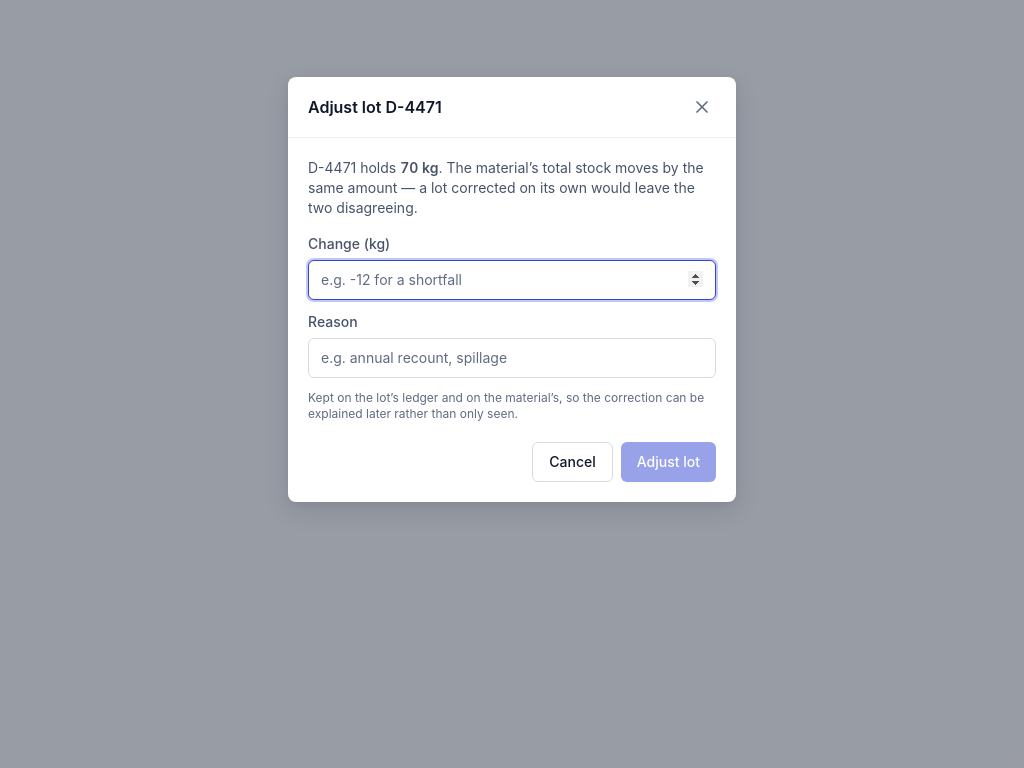
Test: adjusting a lot › will not submit without a reason
Type "-12" into the number field named "Adjustment in kg" at (512, 280), box [308,260,716,300]
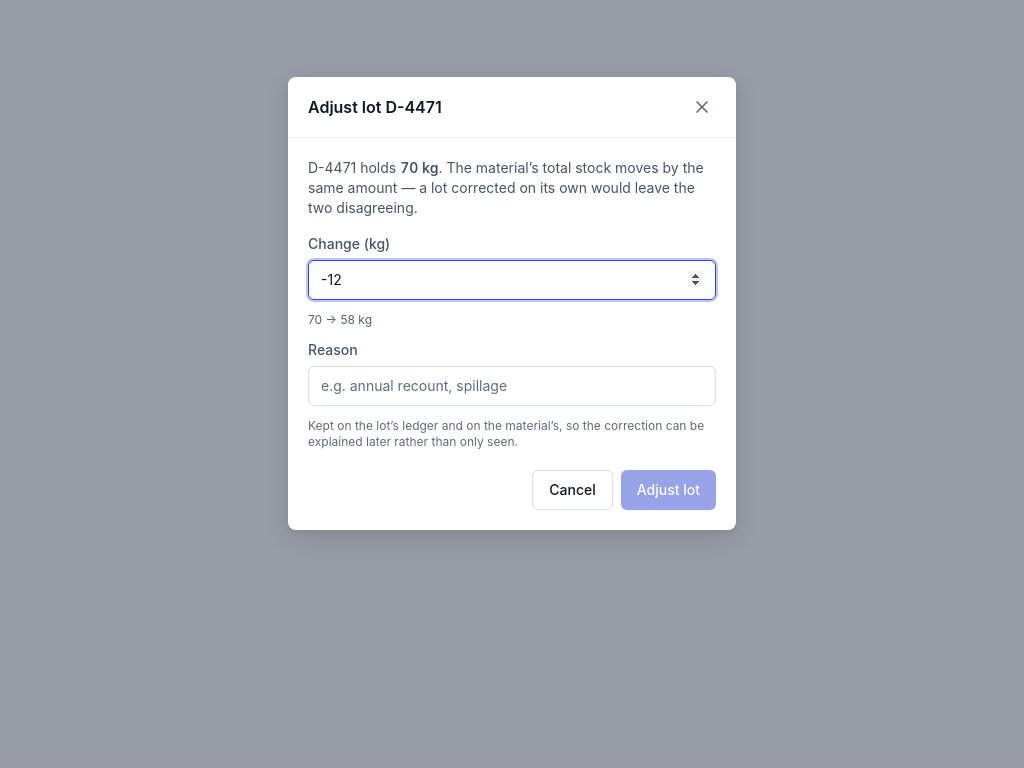
Expected: the button "Adjust lot" is disabled, [621,470,716,510]
Type "recount" into the field named "Reason for the adjustment" at (512, 386), box [308,366,716,406]
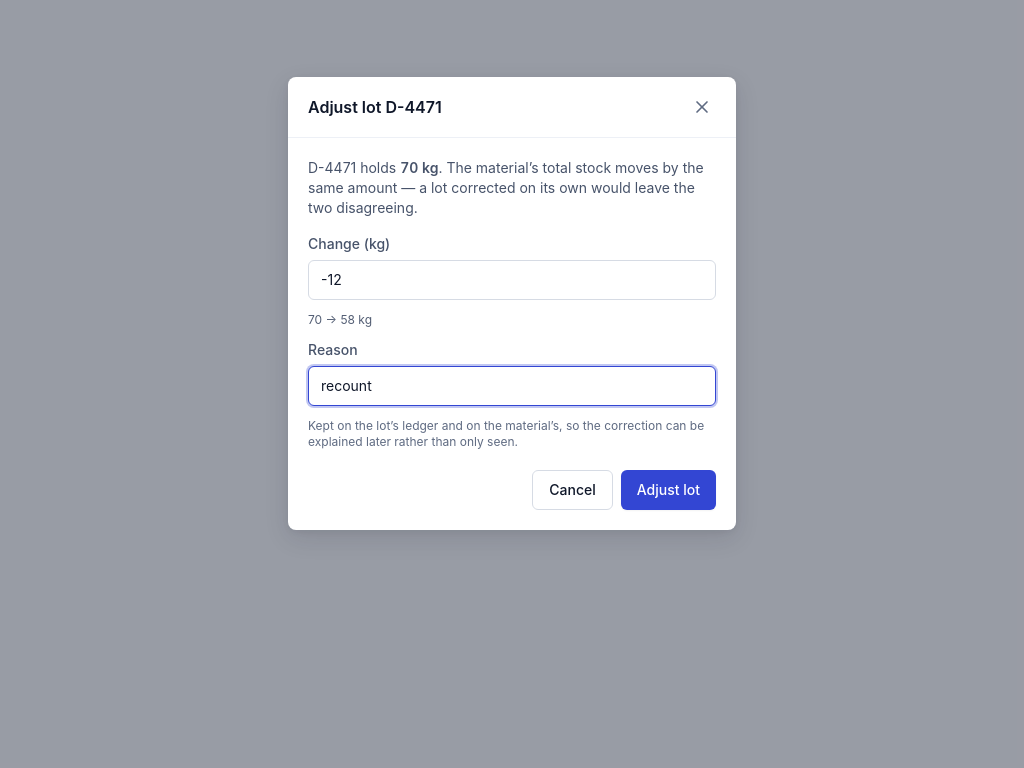
Result: the button "Adjust lot" is enabled at [621,470,716,510]
